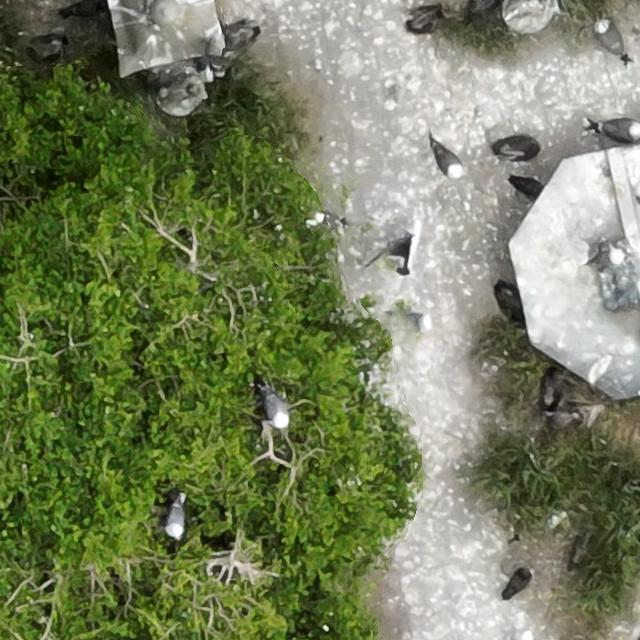umineko: (591, 246, 626, 272), (265, 392, 288, 427), (598, 24, 622, 55), (435, 147, 461, 175), (600, 120, 639, 138), (166, 503, 184, 538), (306, 213, 340, 229)
